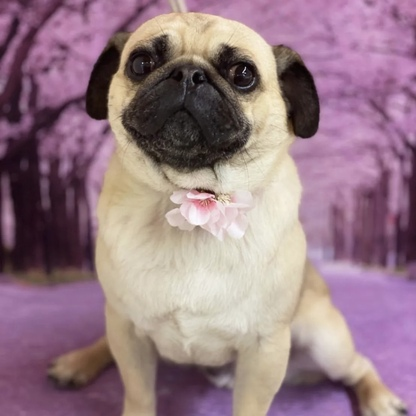Pug: (41, 9, 409, 416)
